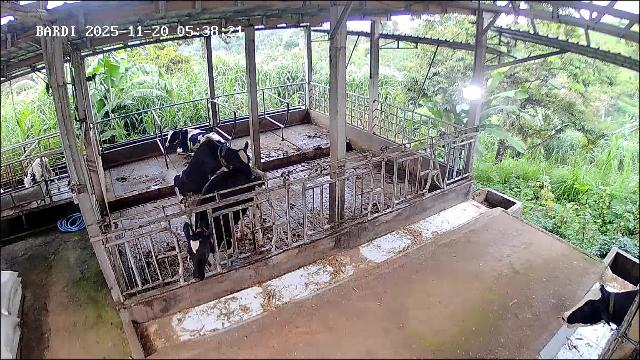mounting: (175, 141, 267, 202)
